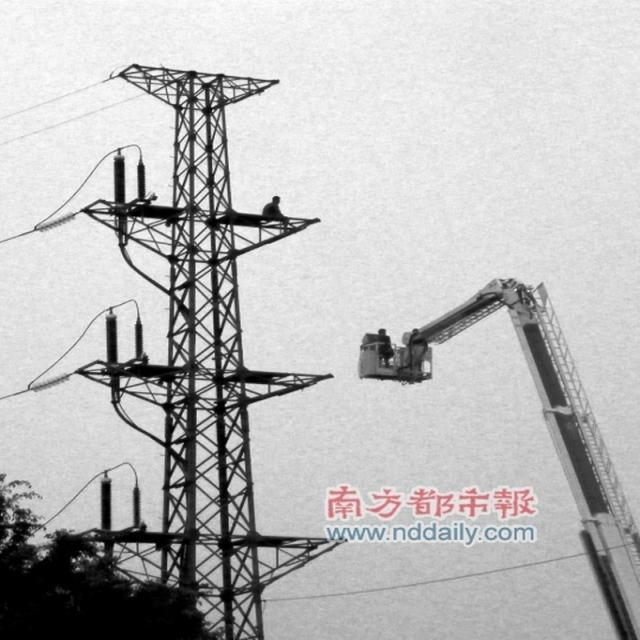non-critical vegetation: (102, 52, 311, 530)
